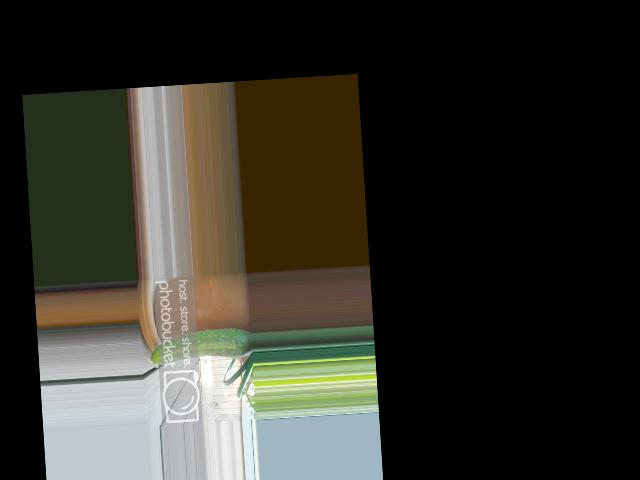cucumber: (144, 327, 252, 366)
